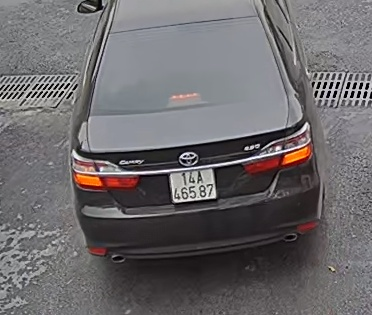vehicle plate: (165, 163, 218, 208)
